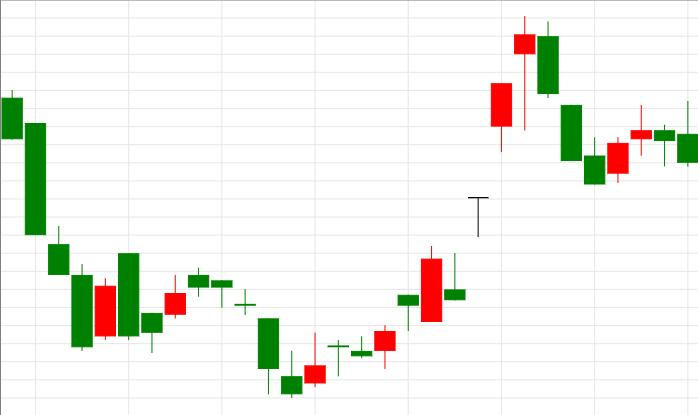three_black_crows_fall: (444, 14, 605, 301)
